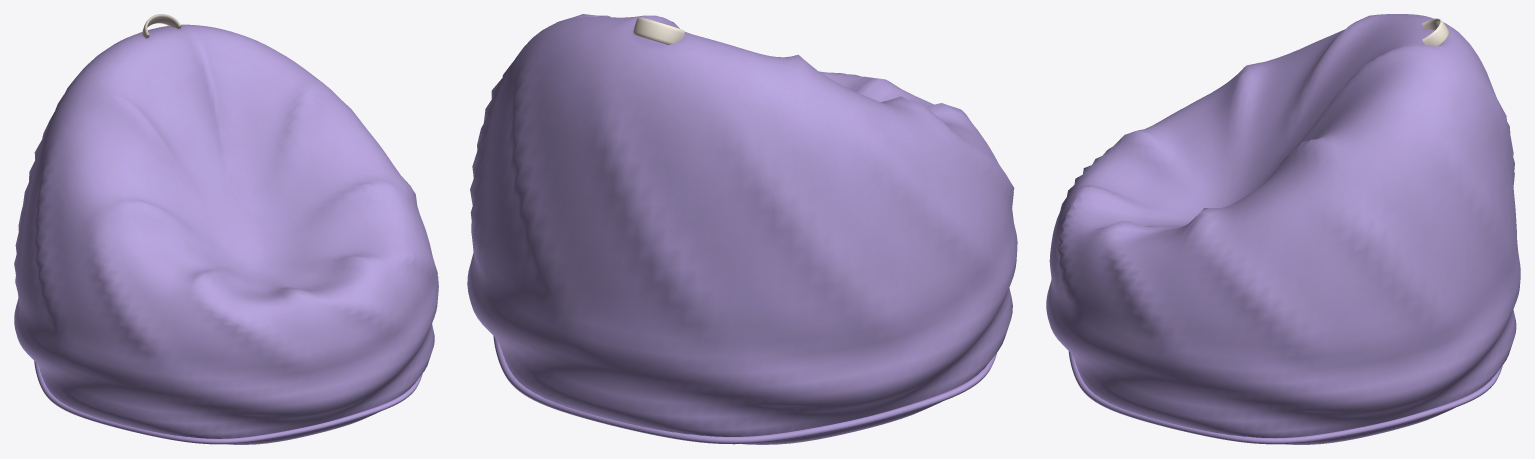
Rendered from bean-bag-chair.glb.
3 views of the same model, side by side, from view 1: azimuth 30°, elevation 25°; view 2: azimuth 150°, elevation 25°; view 3: azimuth 270°, elevation 25° (orthographic). The views are drawn at different scales.
Visible parts, largest first — view 1: bean-bag-chair_body; view 2: bean-bag-chair_body; view 3: bean-bag-chair_body.
Part boxes in pixels (x1,y1,x2,y2): bean-bag-chair_body: (14, 14, 438, 444); bean-bag-chair_body: (467, 14, 1017, 444); bean-bag-chair_body: (1046, 14, 1520, 444).
Size of the model in its own units: 0.9347 by 0.7465 by 0.9308.
1 material, 1 textured.
